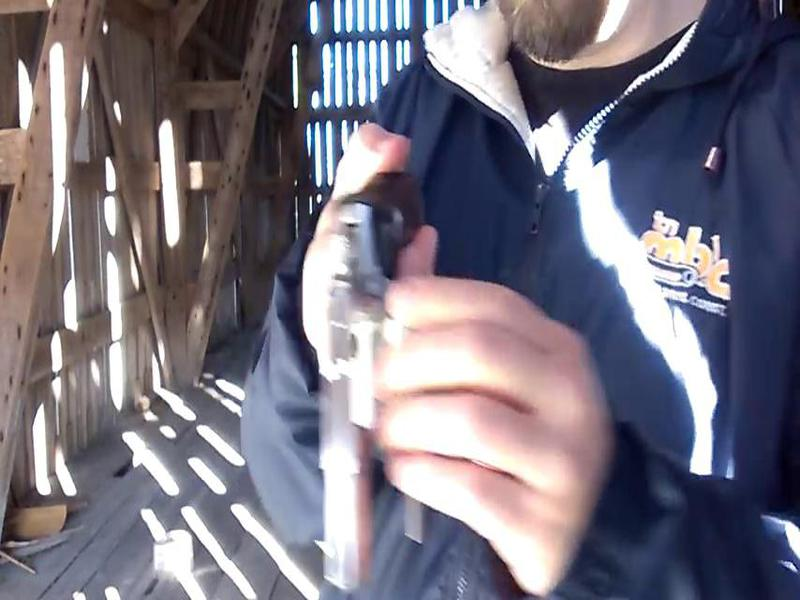Revolver: (272, 140, 498, 595)
